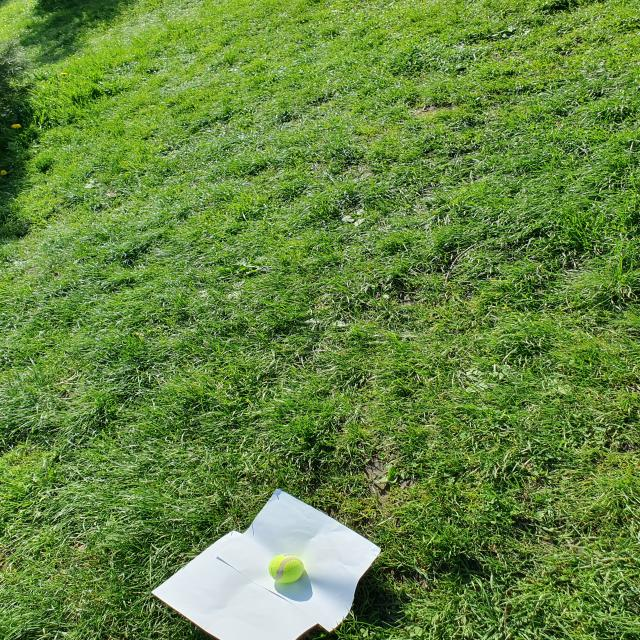green: (268, 553, 305, 583)
